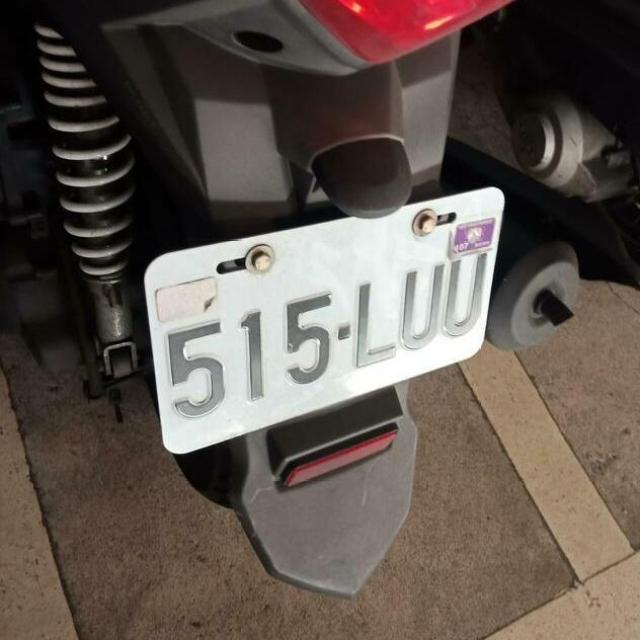W: (127, 174, 524, 457)
